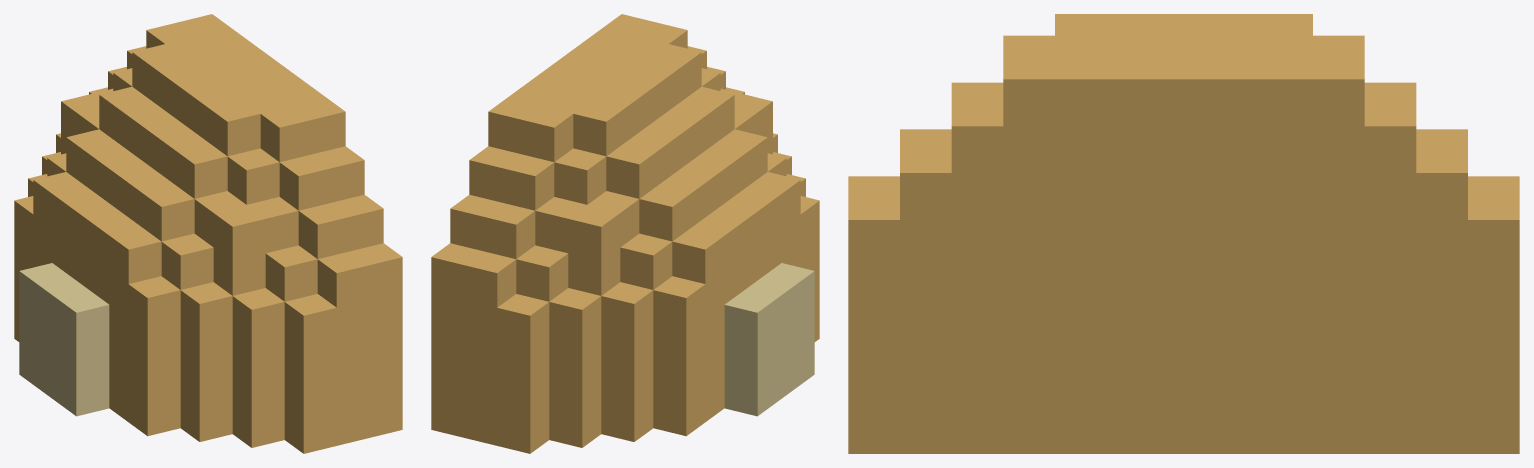
The model's file is cap_side.glb.
3 views of the same model, side by side, from view 1: azimuth 30°, elevation 25°; view 2: azimuth 150°, elevation 25°; view 3: azimuth 270°, elevation 25° (orthographic). The views are drawn at different scales.
Size of the model in its own units: 7 by 8 by 13.
